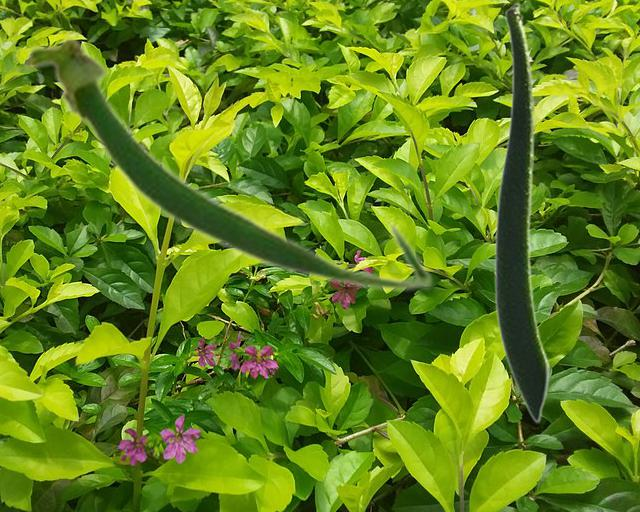french_bean: (20, 32, 434, 293), (493, 1, 549, 423)
